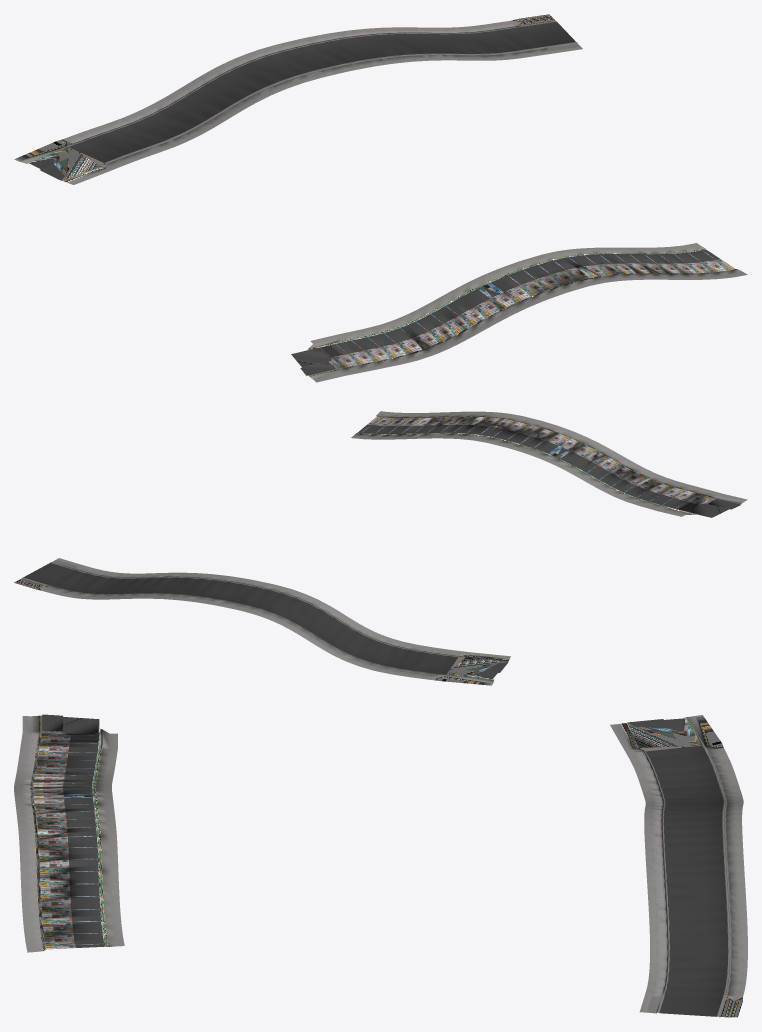
File: event3_char2_v0_bridges.glb
3 views of the same model, one above another, from view 1: azimuth 30°, elevation 25°; view 2: azimuth 150°, elevation 25°; view 3: azimuth 270°, elevation 25° (orthographic). The views are drawn at different scales.
Parts seen in each view (by area): view 1: BRIDGES; view 2: BRIDGES; view 3: BRIDGES.
Boxes of the visible parts, x1,y1,x2,y2 form: BRIDGES: (14,14,747,382); BRIDGES: (14,411,747,685); BRIDGES: (14,714,747,1017).
Size of the model in its own units: 176 by 10.92 by 181.
1 material, 1 textured.
